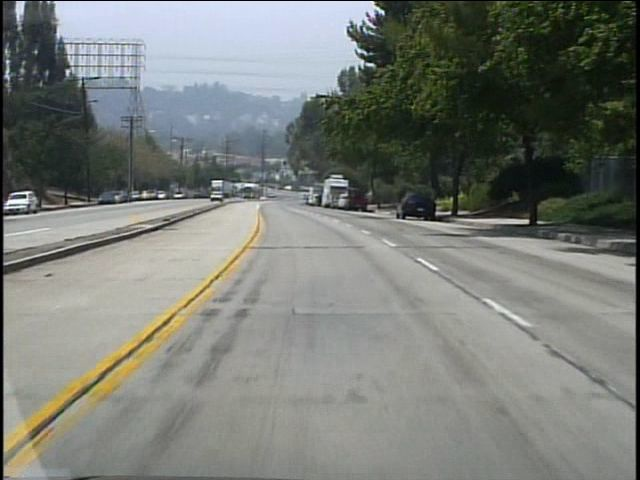person: (363, 185, 374, 208)
